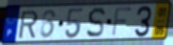3: (133, 4, 153, 39)
5: (64, 7, 85, 40)
6: (39, 9, 57, 39)
F: (110, 6, 133, 38)
R: (17, 10, 39, 40)
S: (85, 6, 107, 40)
